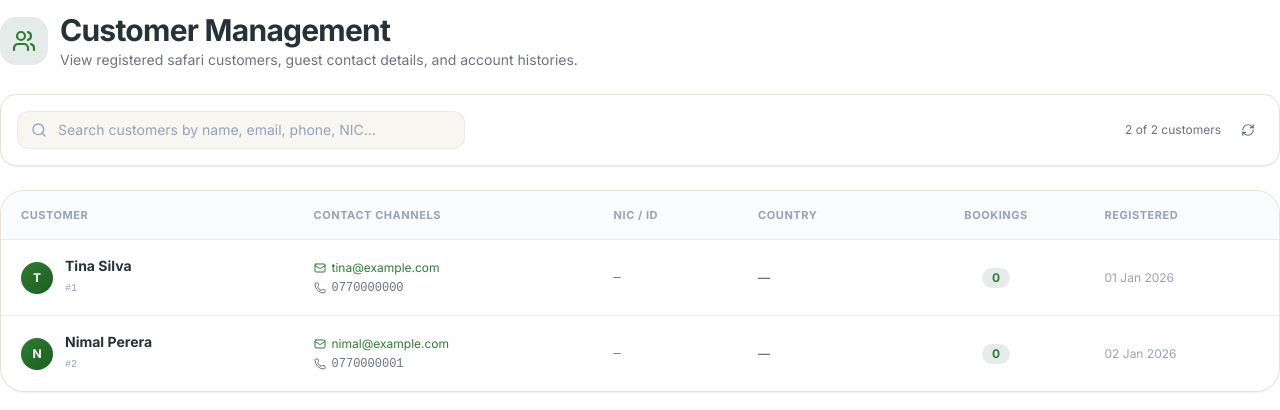
Test case: Admin page search and booking summary › matches a customer search against their full name
Expected: the text "Tina Silva" is shown, [65,256,132,276]
Type "Tina Silva" into the search field labelled "Search customers" at (241, 130), box [17,111,465,149]
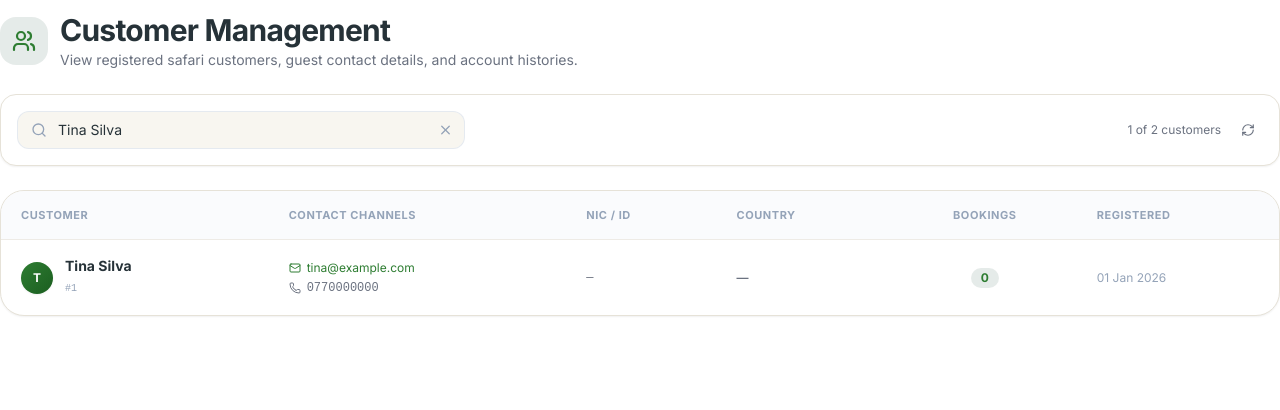
Expected: the text "Tina Silva" is shown, [65,256,132,276]
Result: the text "Nimal Perera" is gone
